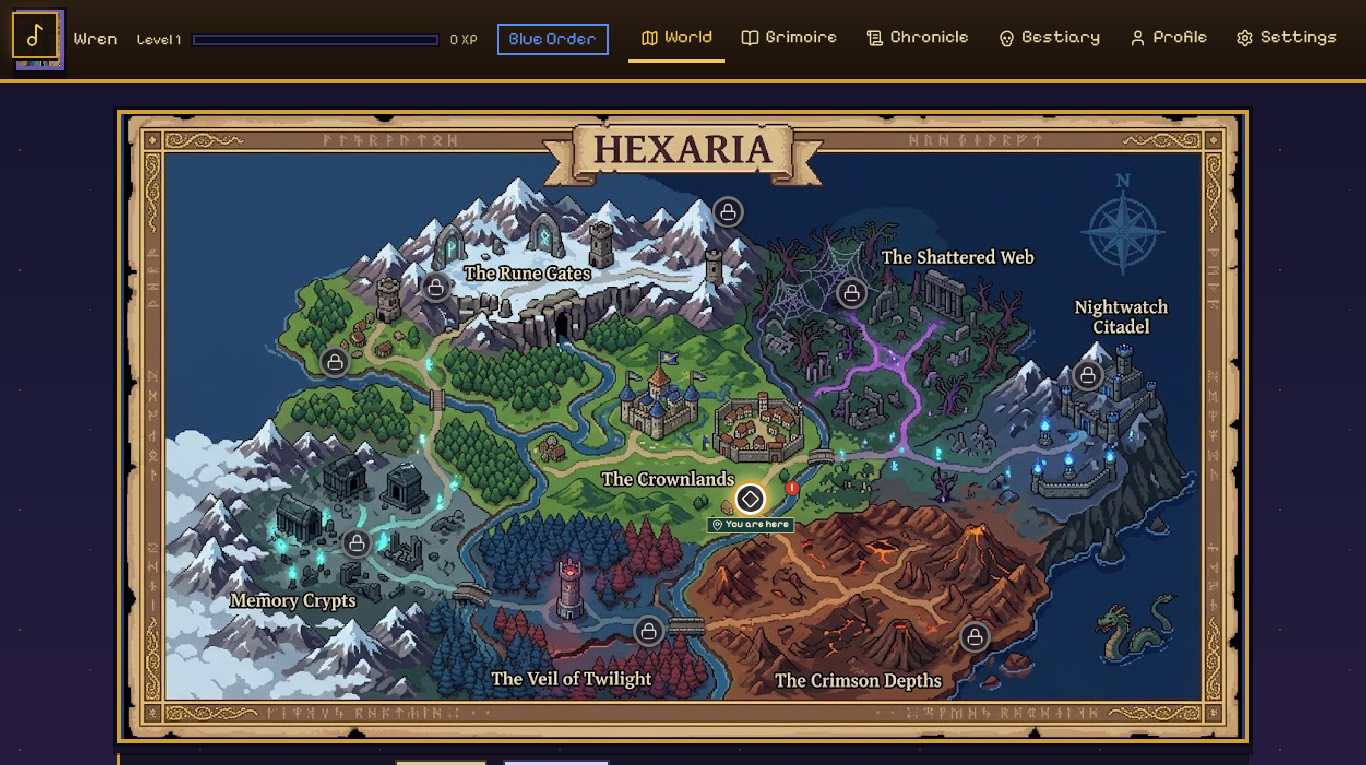
Test: Malware Bestiary in the UI › map shows genuine unlock requirements for a locked region and does not offer to play it
The image size is (1366, 765).
Click the button named "the rune gates, locked". click: coordinates (436, 289)
box: [414,267,458,311]
(page scrolled)
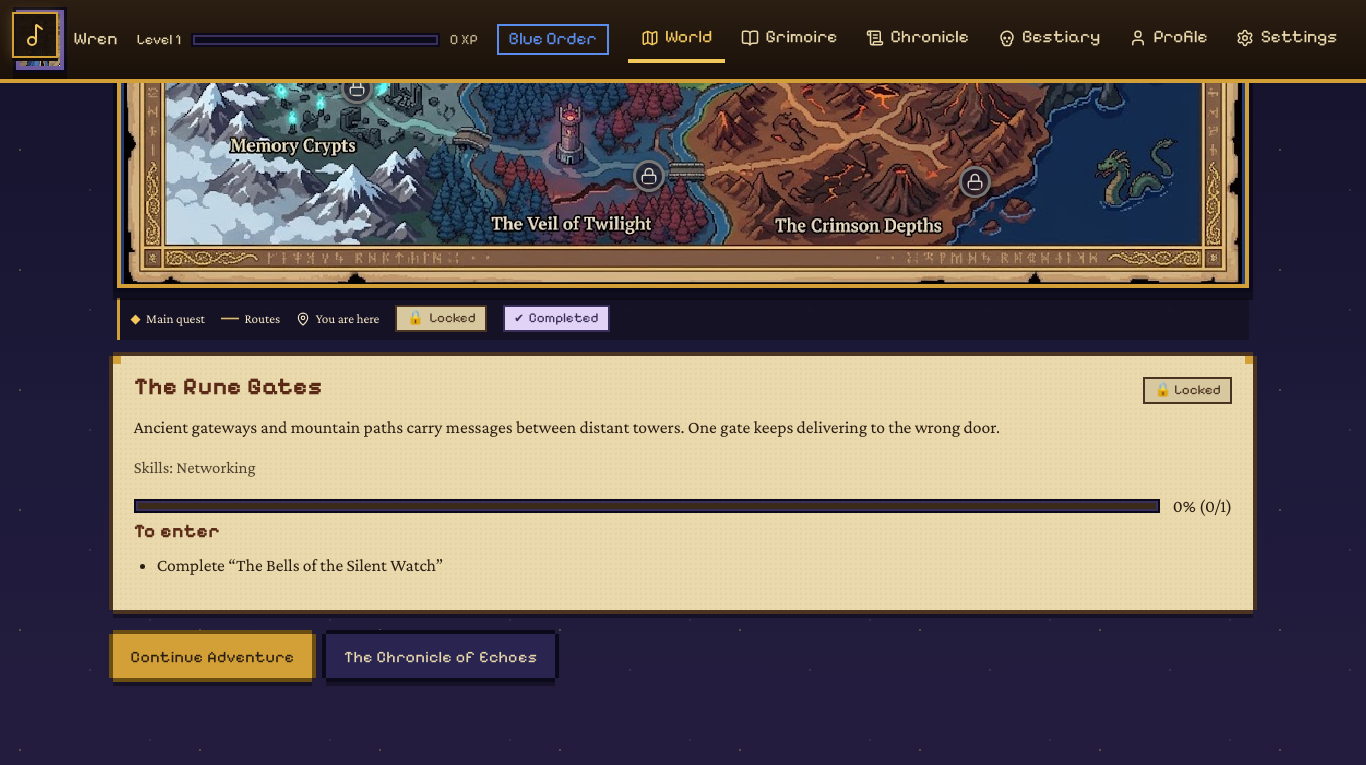
Expected: the list item "Complete “The Bells of the Silent Watch”" is shown, [157,555,443,575]
Result: the heading "To enter" is shown at [134,519,220,542]
